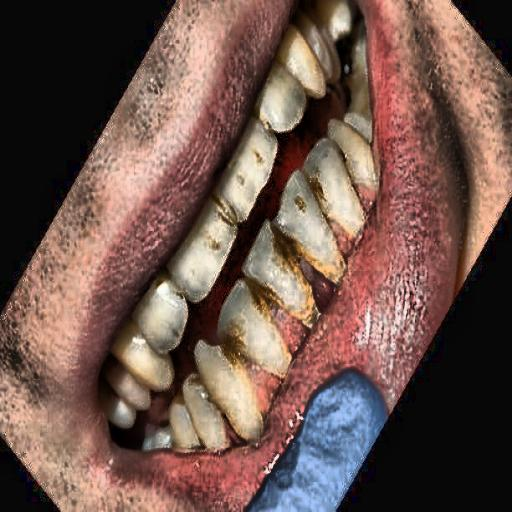Calculus: (196, 180, 356, 389), (260, 18, 383, 276), (141, 256, 210, 429)
